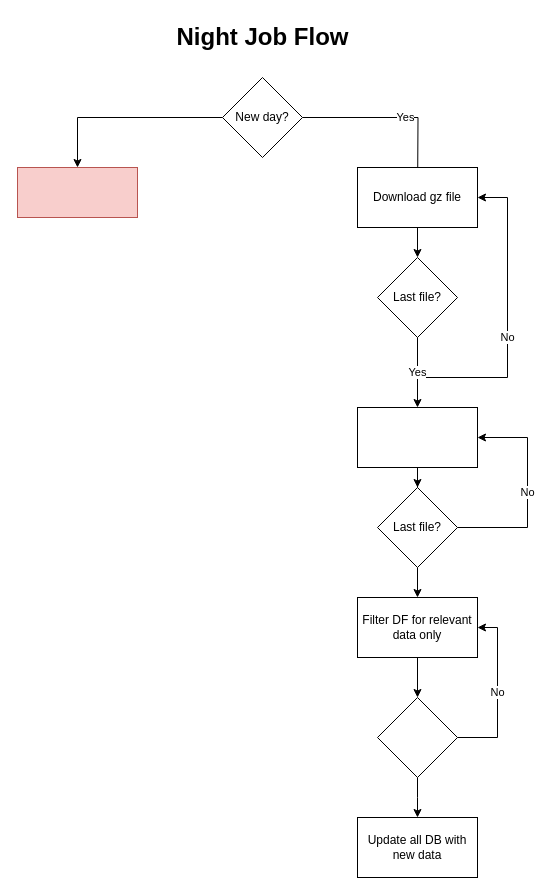
Some shapes in this 553 by 895 pixel diagram are drawn without their labels. Each missing label, with the centre of its shape:
"Create a DF" goes at point (417, 437).
"Do nothing" goes at point (77, 192).
"Last DF?" goes at point (417, 737).
